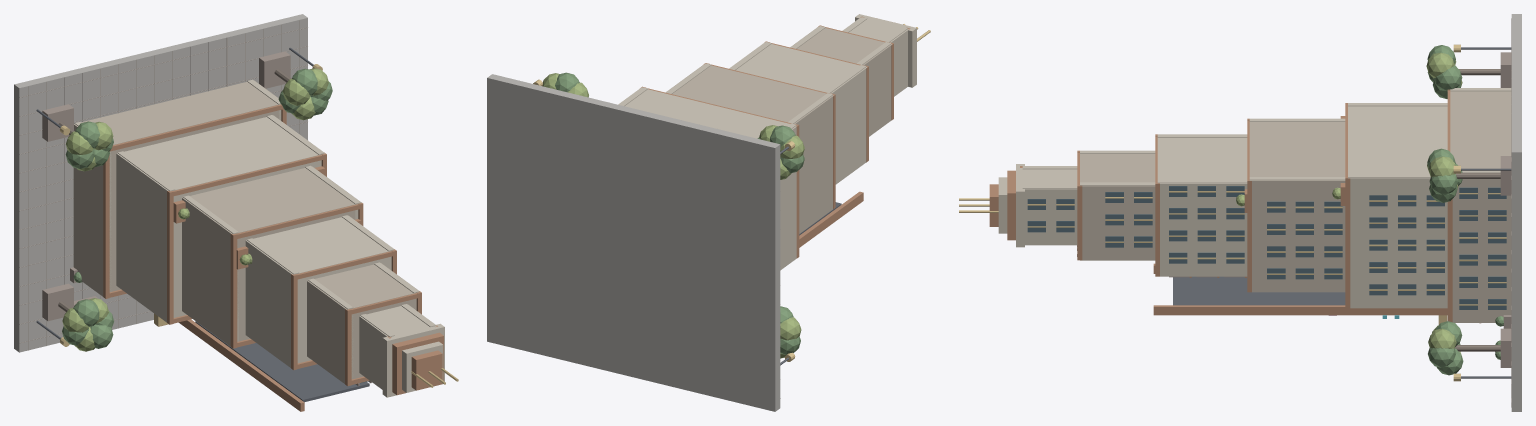
Rendered from neon-guitar-tower.glb.
The picture shows the model from 3 angles, left to right: view 1: azimuth 30°, elevation 25°; view 2: azimuth 150°, elevation 25°; view 3: azimuth 270°, elevation 25°; orthographic projection.
Parts seen in each view (by area): view 1: Stone city block, Art Deco tower tier 1, Art Deco tower tier 2, Art Deco tower tier 0, Art Deco tower tier 3, Art Deco tower tier 4, Neon sign backing, Art Deco tower tier 5, Vertical copper fin, Stepped crown, Terracotta roof parapet_1, Stepped crown_3 (+23 smaller); view 2: Stone city block, Art Deco tower tier 2, Art Deco tower tier 3, Art Deco tower tier 1, Art Deco tower tier 4, Art Deco tower tier 5, Vertical copper fin, Stepped crown, Tree leaf canopy_3; view 3: Art Deco tower tier 1, Art Deco tower tier 2, Art Deco tower tier 0, Art Deco tower tier 3, Art Deco tower tier 4, Stone city block, Neon sign backing, Art Deco tower tier 5, Vertical copper fin_1, Roof edge trim_3, Stepped crown, Roof edge trim_1 (+3 smaller).
Part boxes in pixels (left/top/right/bottom): Stone city block: left=14, top=14, right=307, bottom=352; Art Deco tower tier 1: left=116, top=115, right=325, bottom=322; Art Deco tower tier 2: left=182, top=166, right=361, bottom=346; Art Deco tower tier 0: left=73, top=80, right=280, bottom=296; Art Deco tower tier 3: left=245, top=215, right=394, bottom=367; Art Deco tower tier 4: left=307, top=263, right=419, bottom=383; Neon sign backing: left=195, top=321, right=369, bottom=402; Art Deco tower tier 5: left=359, top=304, right=435, bottom=389; Vertical copper fin: left=178, top=319, right=304, bottom=411; Stepped crown: left=382, top=323, right=444, bottom=397; Terracotta roof parapet_1: left=109, top=104, right=283, bottom=151; Stepped crown_3: left=411, top=350, right=442, bottom=390; Stone city block: left=487, top=74, right=780, bottom=411; Art Deco tower tier 2: left=665, top=65, right=833, bottom=233; Art Deco tower tier 3: left=729, top=42, right=866, bottom=184; Art Deco tower tier 1: left=618, top=87, right=796, bottom=270; Art Deco tower tier 4: left=790, top=27, right=891, bottom=136; Art Deco tower tier 5: left=842, top=18, right=908, bottom=96; Vertical copper fin: left=799, top=191, right=863, bottom=247; Stepped crown: left=855, top=14, right=916, bottom=87; Tree leaf canopy_3: left=780, top=317, right=801, bottom=340; Art Deco tower tier 1: left=1348, top=106, right=1447, bottom=307; Art Deco tower tier 2: left=1249, top=122, right=1345, bottom=292; Art Deco tower tier 0: left=1450, top=91, right=1511, bottom=322; Art Deco tower tier 3: left=1157, top=137, right=1247, bottom=276; Art Deco tower tier 4: left=1080, top=154, right=1155, bottom=260; Stone city block: left=1511, top=14, right=1521, bottom=411; Neon sign backing: left=1173, top=276, right=1345, bottom=305; Art Deco tower tier 5: left=1022, top=169, right=1077, bottom=244; Vertical copper fin_1: left=1153, top=305, right=1447, bottom=315; Roof edge trim_3: left=1345, top=176, right=1350, bottom=308; Stepped crown: left=1016, top=164, right=1024, bottom=247; Roof edge trim_1: left=1447, top=199, right=1452, bottom=322.
Size of the model in its own units: 16 by 14 by 27.5.
